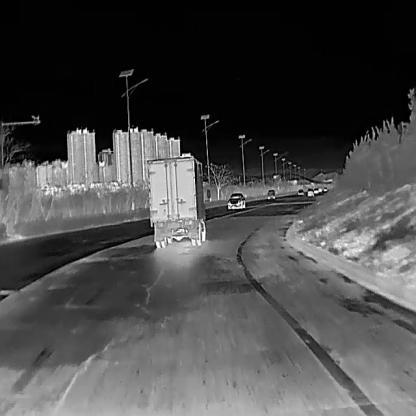car: (145, 154, 209, 247), (226, 191, 245, 208), (266, 189, 275, 199), (306, 187, 313, 195), (297, 187, 304, 194), (317, 185, 322, 192), (322, 185, 327, 191), (312, 187, 318, 192)
